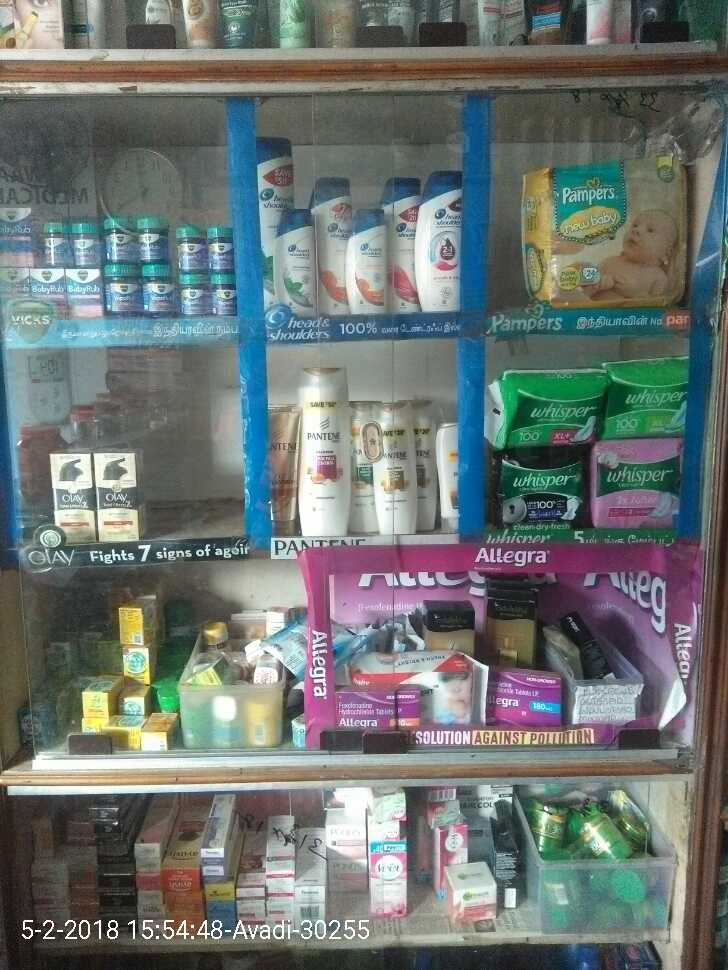vicks: (1, 206, 237, 316)
